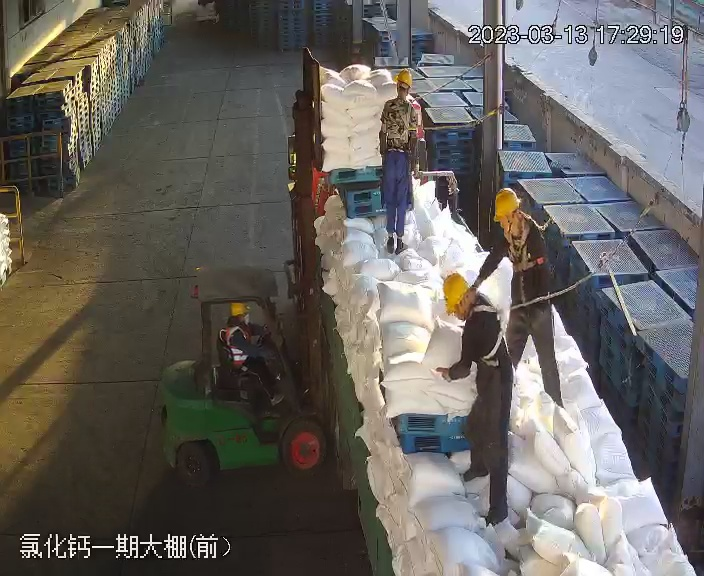belt: (470, 300, 509, 364), (501, 218, 542, 266), (394, 101, 419, 143)
head: (488, 188, 551, 258), (441, 273, 501, 341), (383, 69, 422, 117), (223, 301, 258, 348)
helmet: (442, 271, 473, 314), (492, 186, 521, 221), (392, 69, 413, 86), (230, 301, 251, 317)
people: (433, 270, 522, 536), (470, 192, 568, 404), (377, 67, 426, 256), (222, 302, 282, 408)
truck: (285, 59, 688, 571)
